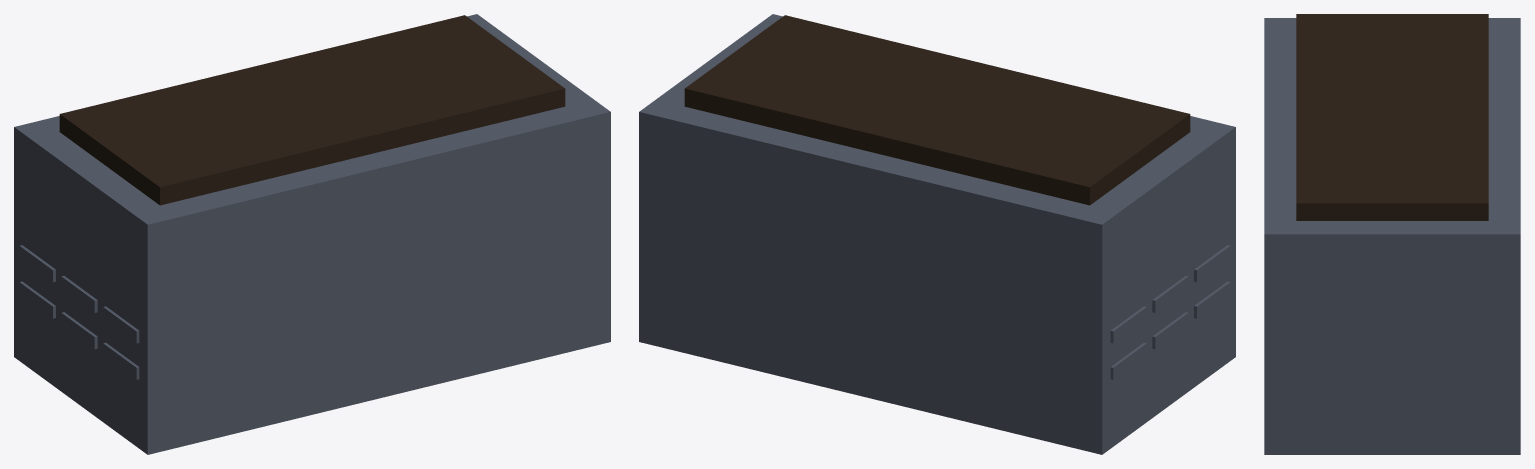
The model's file is tray.glb.
3 renders of one model, left to right at view 1: azimuth 30°, elevation 25°; view 2: azimuth 150°, elevation 25°; view 3: azimuth 270°, elevation 25°, orthographic. The views are drawn at different scales.
Parts seen in each view (by area): view 1: tray; view 2: tray; view 3: tray.
Part boxes in pixels (left/top/right/bottom): tray: left=14, top=14, right=610, bottom=454; tray: left=639, top=14, right=1235, bottom=454; tray: left=1264, top=14, right=1520, bottom=454.
Bounding box in the file's own units: 1.61 × 0.82 × 0.8.
